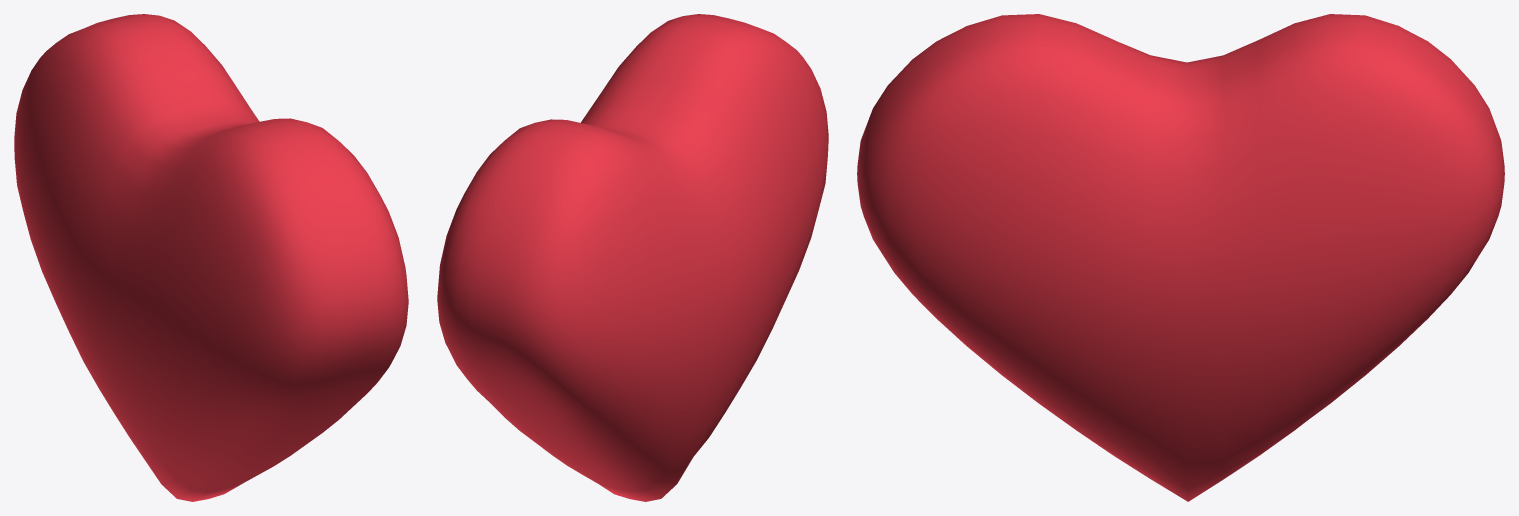
The model's file is Heart.glb.
The picture shows the model from 3 angles, left to right: view 1: azimuth 30°, elevation 25°; view 2: azimuth 150°, elevation 25°; view 3: azimuth 270°, elevation 25°; orthographic projection. The views are drawn at different scales.
Parts seen in each view (by area): view 1: Cube; view 2: Cube; view 3: Cube.
Boxes of the visible parts, left/top/right/bottom form: Cube: left=14, top=14, right=408, bottom=501; Cube: left=437, top=14, right=828, bottom=501; Cube: left=857, top=14, right=1504, bottom=501.
Bounding box in the file's own units: 1.08 × 2.11 × 2.65.
